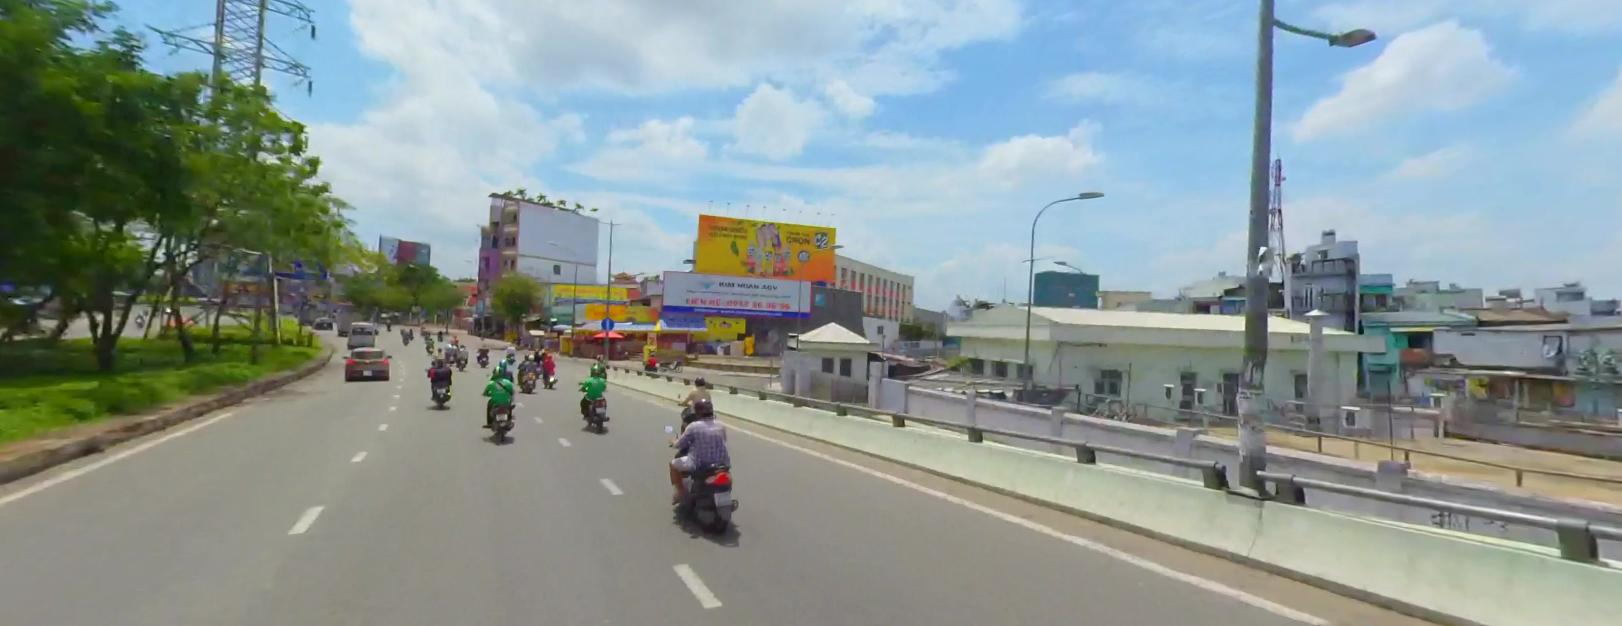Hieu lenh: (600, 316, 613, 329)
